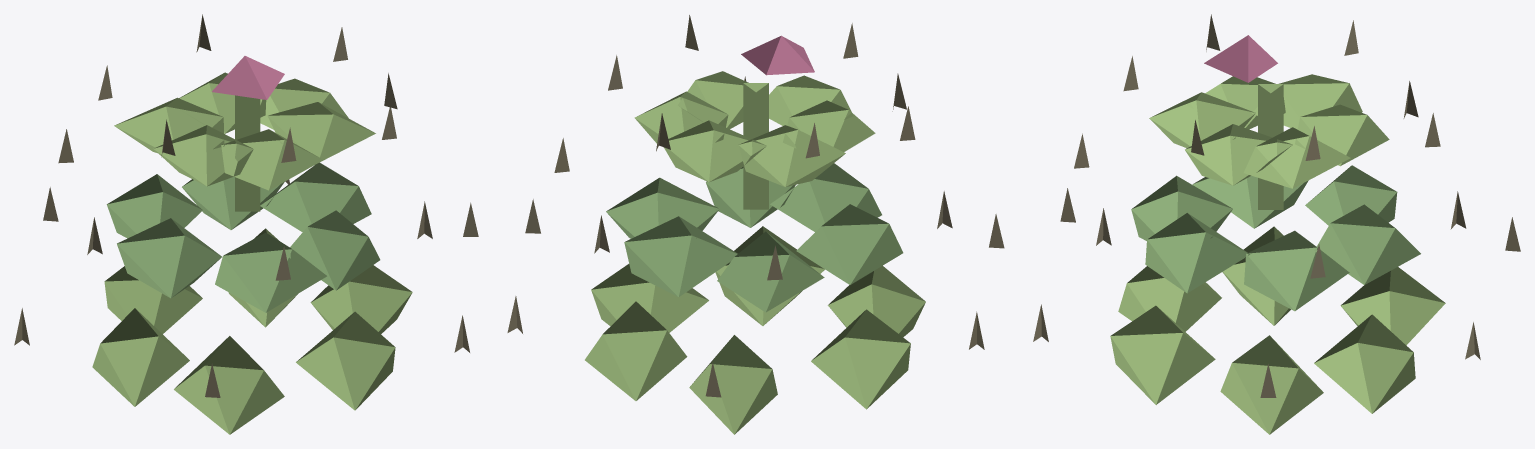
File: shrub.trop.desert_succulent__spring.glb
3 views of the same model, side by side, from view 1: azimuth 30°, elevation 25°; view 2: azimuth 150°, elevation 25°; view 3: azimuth 270°, elevation 25° (orthographic).
Visible parts, largest first — view 1: shrub.trop.desert_succulent__spring; view 2: shrub.trop.desert_succulent__spring; view 3: shrub.trop.desert_succulent__spring.
Part boxes in pixels (<box>): shrub.trop.desert_succulent__spring: <box>14,14,478,434</box>; shrub.trop.desert_succulent__spring: <box>507,15,1004,434</box>; shrub.trop.desert_succulent__spring: <box>1033,14,1520,434</box>.
Size of the model in its own units: 1.8 by 1.26 by 1.64.
